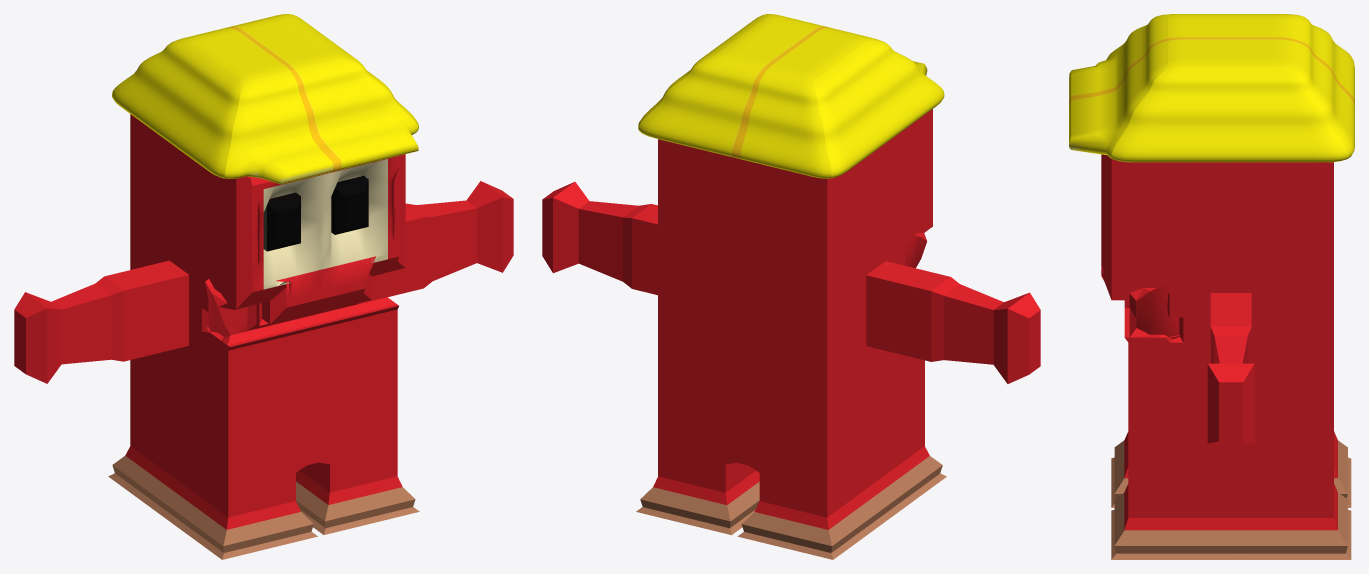
File: CarreromonIngCivil.fbx
The picture shows the model from 3 angles, left to right: view 1: azimuth 30°, elevation 25°; view 2: azimuth 150°, elevation 25°; view 3: azimuth 270°, elevation 25°; orthographic projection. The views are drawn at different scales.
Visible parts, largest first — view 1: Carreromon, Box001; view 2: Carreromon, Box001; view 3: Carreromon, Box001.
Boxes of the visible parts, x1=… form: Carreromon: x1=14, y1=114, x2=513, y2=559; Box001: x1=112, y1=14, x2=418, y2=184; Carreromon: x1=542, y1=109, x2=1040, y2=559; Box001: x1=638, y1=14, x2=944, y2=178; Carreromon: x1=1101, y1=154, x2=1351, y2=559; Box001: x1=1069, y1=14, x2=1354, y2=162.
Size of the model in its own units: 130 by 114 by 62.53.
2 materials, 2 textured.
